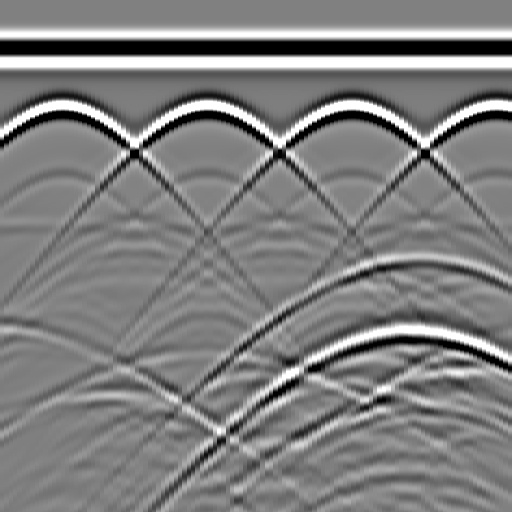grout_surface: (1, 212, 512, 242)
rebar: (41, 89, 81, 129), (185, 89, 225, 129), (329, 89, 369, 129), (473, 89, 512, 129)
rock_surface: (1, 323, 511, 397)
water_void: (381, 235, 441, 275)
